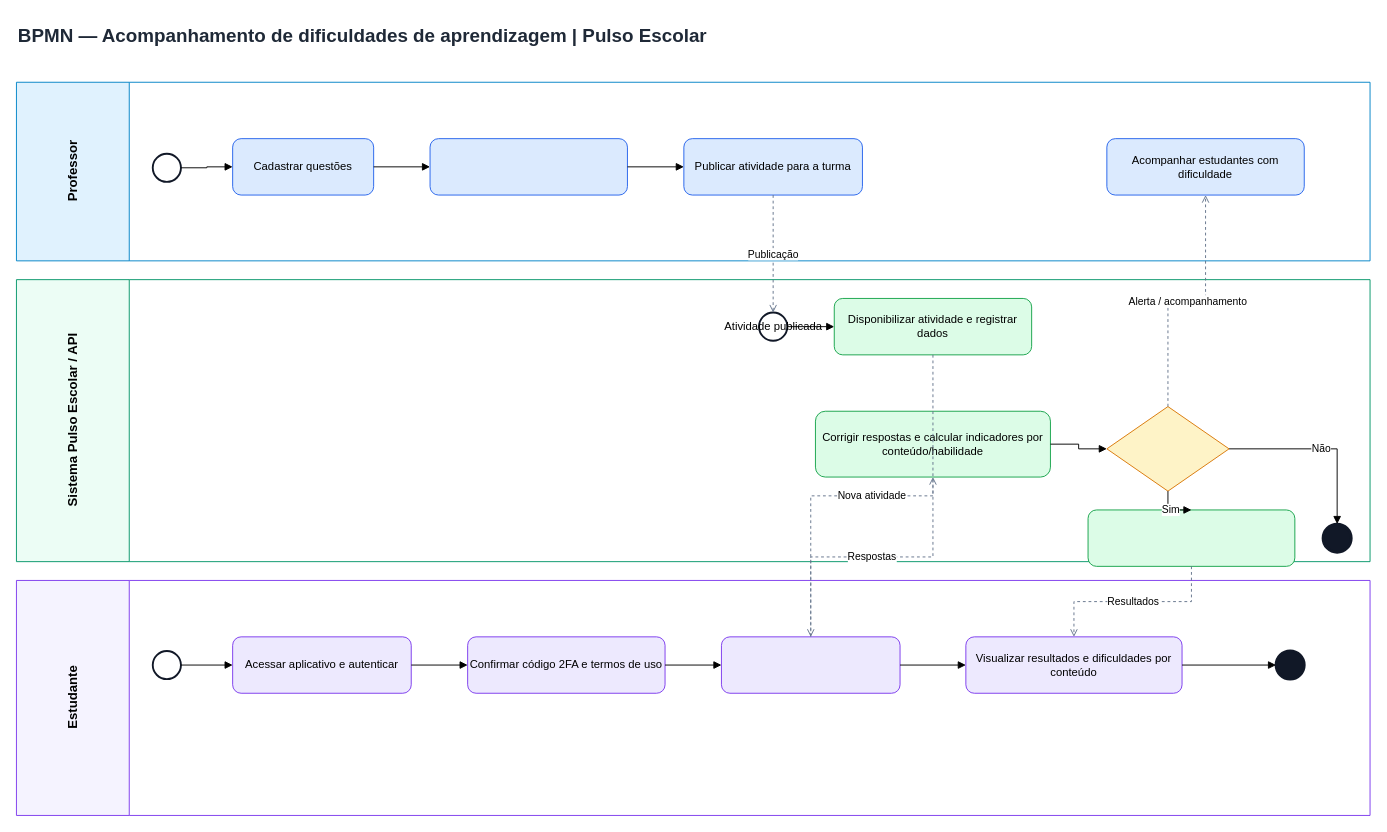
Some shapes in this 1387 by 832 pixel diagram are drawn without their labels. The centre of each missing label's shape, as x and y in pixels:
"Consultar e responder atividade" goes at [810,664].
"Desempenho indica dificuldade?" goes at [1167,448].
"Fim" goes at [1289,664].
"Gerar relatório individual e recomendações" goes at [1191,537].
"Início" goes at [166,665].
"Relacionar questões a conteúdos e habilidades" goes at [528,166].
